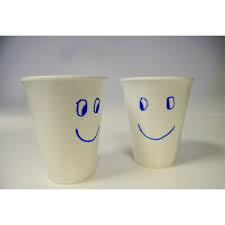Plastic cup: (20, 65, 109, 188), (118, 67, 193, 181)
